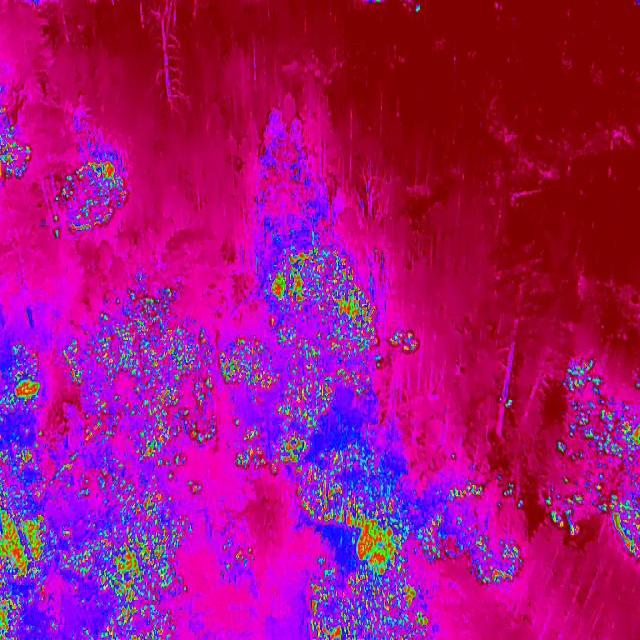fire: (0, 272, 214, 640), (218, 214, 374, 462), (293, 447, 426, 640), (541, 360, 640, 559), (425, 482, 530, 587), (54, 152, 135, 239), (0, 104, 33, 184), (388, 328, 429, 368)
